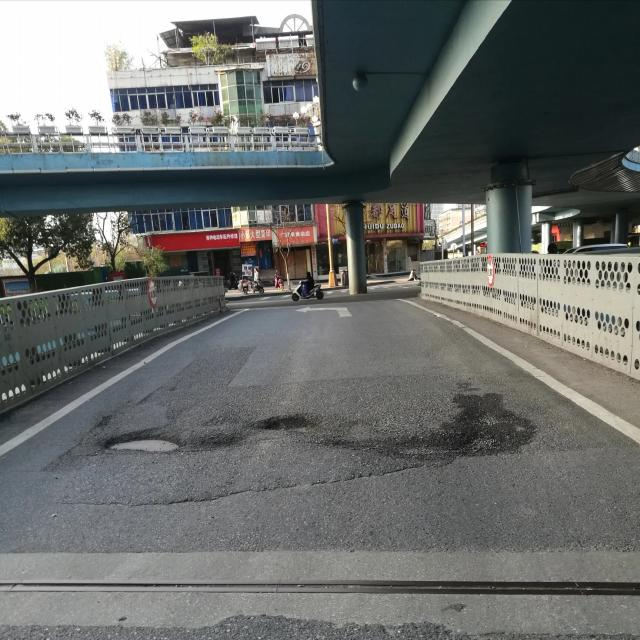Pothole: (374, 386, 546, 460), (106, 431, 194, 466), (258, 416, 310, 436)
